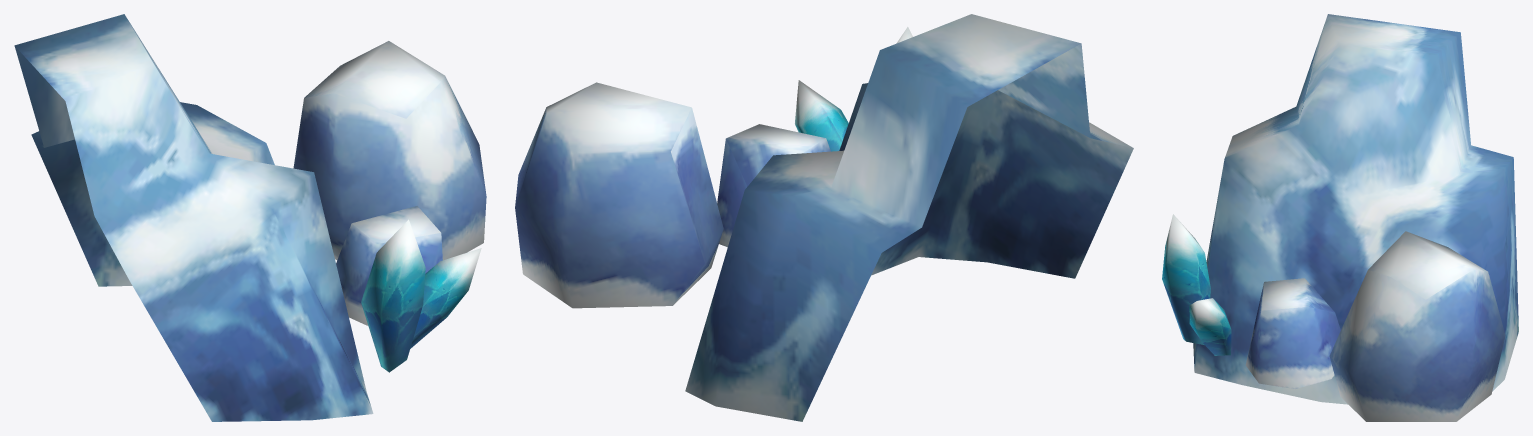
The model's file is SM_stoneB_19.fbx.
The picture shows the model from 3 angles, left to right: view 1: azimuth 30°, elevation 25°; view 2: azimuth 150°, elevation 25°; view 3: azimuth 270°, elevation 25°; orthographic projection. The views are drawn at different scales.
Parts seen in each view (by area): view 1: SM_stoneB_19; view 2: SM_stoneB_19; view 3: SM_stoneB_19.
Boxes of the visible parts, bbox=[...] form: SM_stoneB_19: bbox=[14, 14, 486, 421]; SM_stoneB_19: bbox=[515, 14, 1133, 421]; SM_stoneB_19: bbox=[1162, 14, 1518, 421].
Size of the model in its own units: 2.93 by 2 by 2.28.
